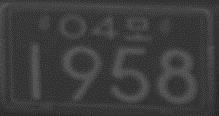0: (58, 12, 88, 40)
1: (20, 44, 53, 100)
4: (92, 13, 119, 42)
5: (108, 47, 150, 103)
8: (156, 46, 199, 105)
9: (62, 45, 102, 104)
모: (122, 14, 153, 43)
